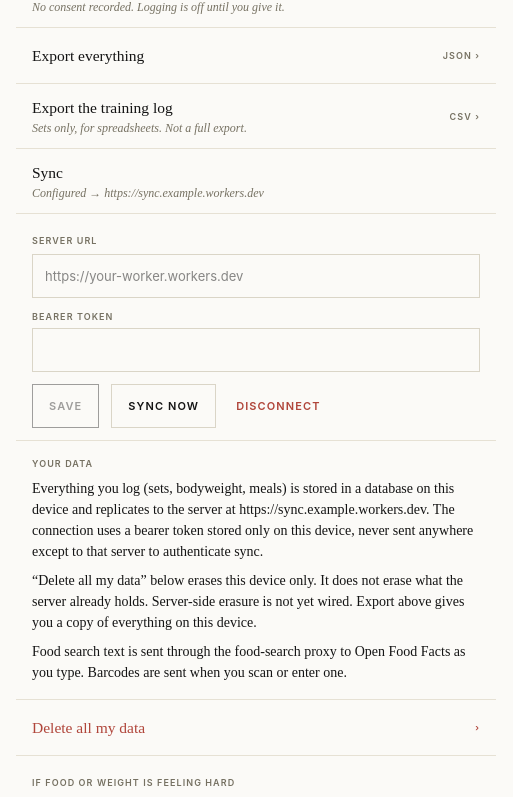
Scenario: Settings sync section › Sync now reports the push/pull counts and surfaces errors instead of swallowing them
(page scrolled)
Click the button with test id "sync-now-button". click: x=164, y=406
box: [111,384,216,428]
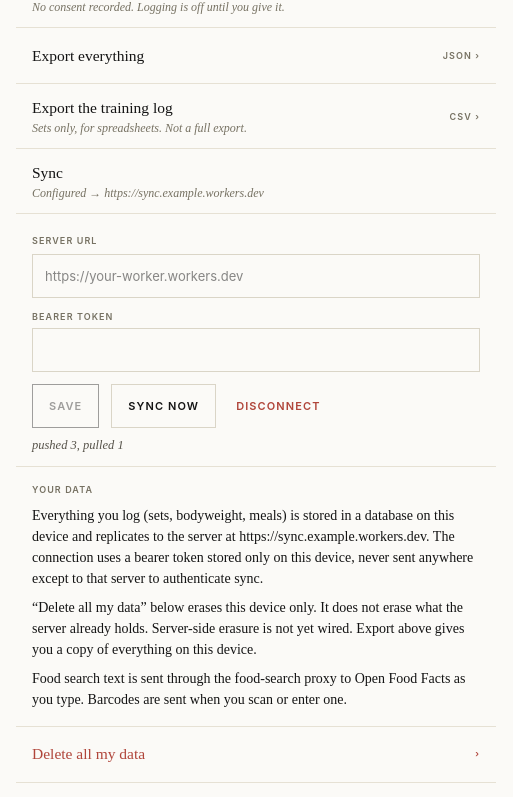
Now the text with test id "sync-result" reads "pushed 3, pulled 1", box [32,438,124,452]
Click the button with test id "sync-now-button". click: x=164, y=406
box: [111,384,216,428]
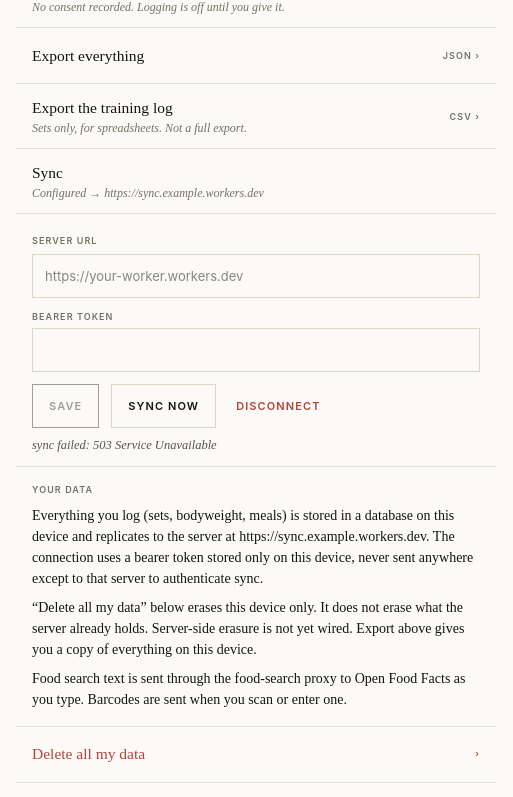
Now the text with test id "sync-result" shows "503", box [32,438,217,452]
